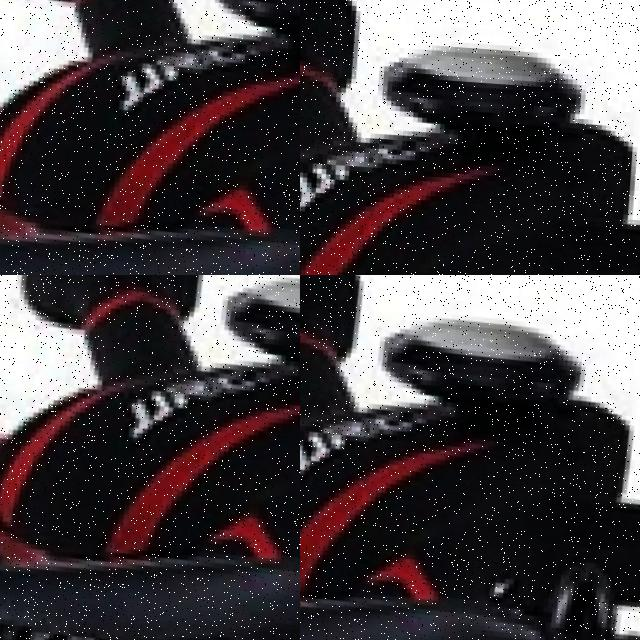drone: (300, 275, 640, 640), (0, 275, 300, 640), (0, 0, 300, 275)
